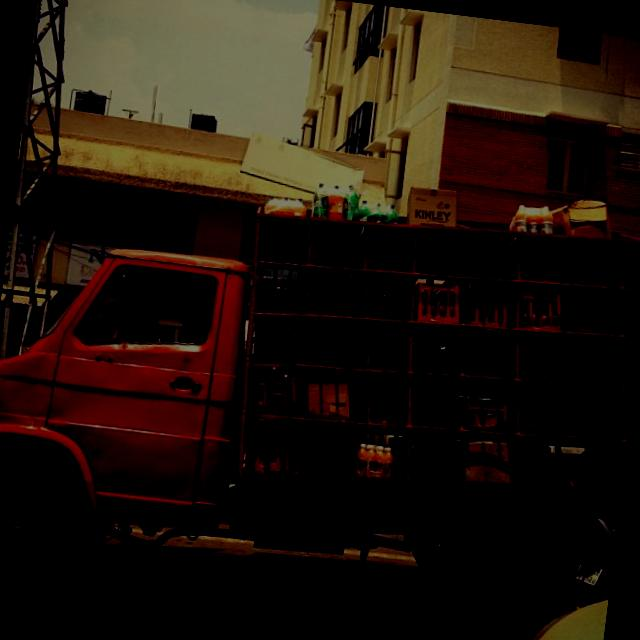Vehicle: (0, 129, 640, 640), (558, 506, 618, 608), (507, 585, 608, 640)
